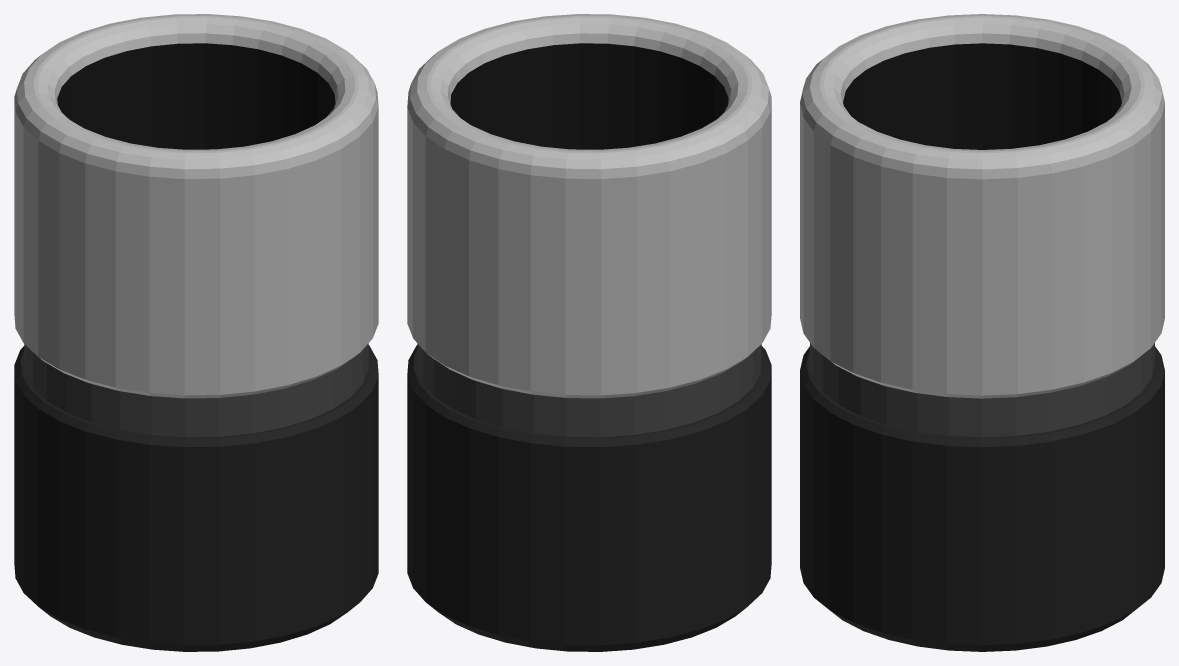
File: Trash_can.fbx
The picture shows the model from 3 angles, left to right: view 1: azimuth 30°, elevation 25°; view 2: azimuth 150°, elevation 25°; view 3: azimuth 270°, elevation 25°; orthographic projection.
Visible parts, largest first — view 1: Cylinder.007; view 2: Cylinder.007; view 3: Cylinder.007.
Boxes of the visible parts, bbox=[...] form: Cylinder.007: bbox=[14, 14, 378, 651]; Cylinder.007: bbox=[407, 14, 771, 651]; Cylinder.007: bbox=[800, 14, 1164, 651].
Bounding box in the file's own units: 141 × 212 × 141.
